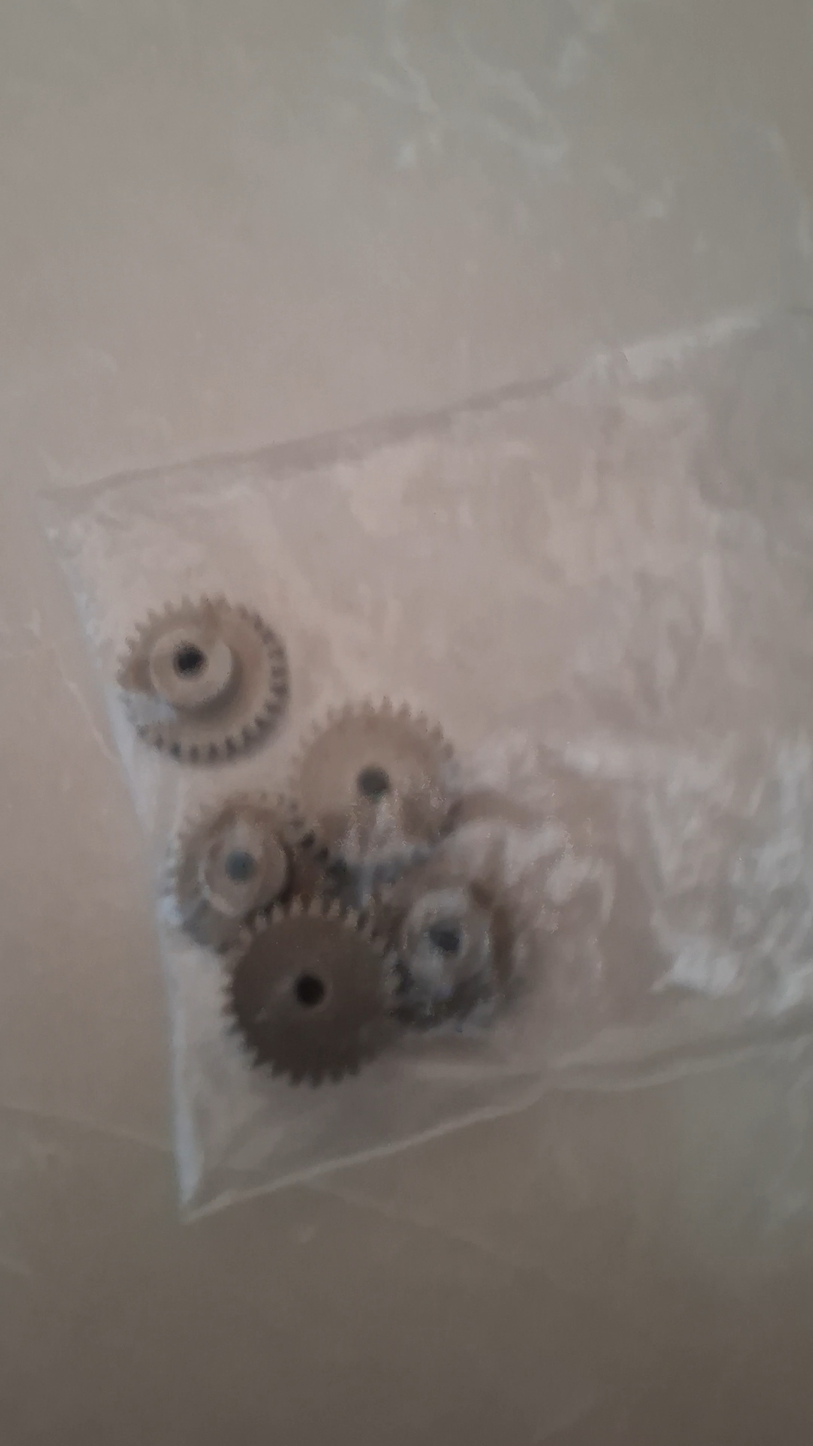spur gear: (227, 898, 396, 1084), (292, 701, 454, 877), (118, 598, 289, 762), (167, 795, 312, 951), (384, 864, 511, 1027)
